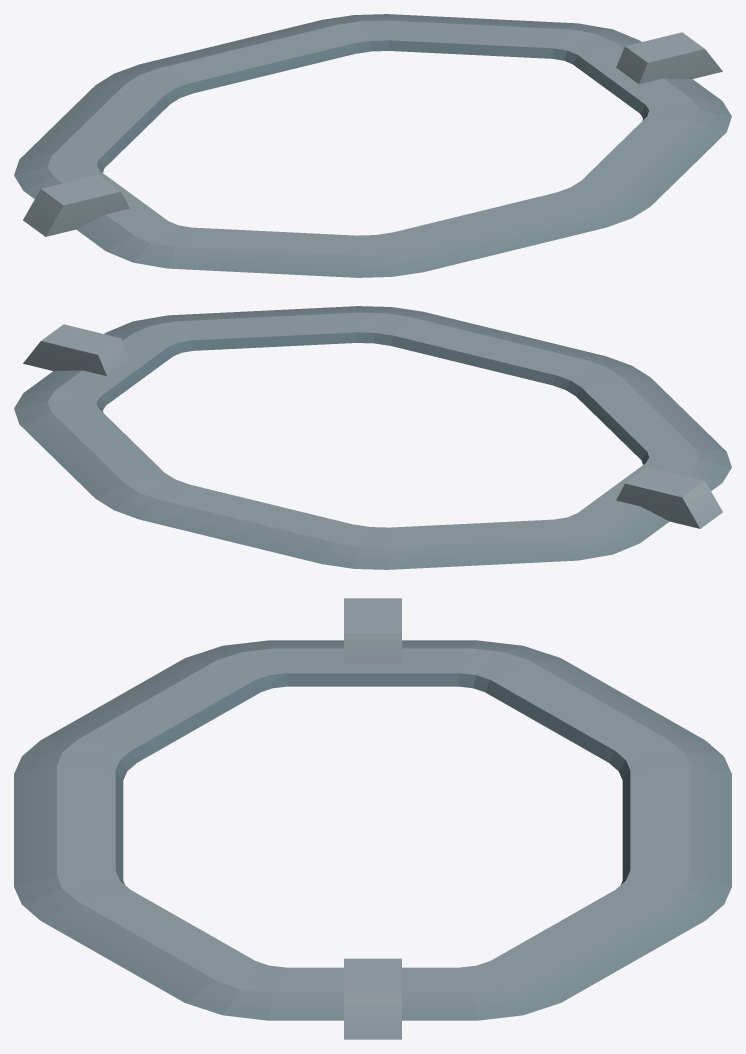
Rendered from Hatch_005.fbx.
3 views of the same model, one above another, from view 1: azimuth 30°, elevation 25°; view 2: azimuth 150°, elevation 25°; view 3: azimuth 270°, elevation 25° (orthographic). The views are drawn at different scales.
Parts seen in each view (by area): view 1: Hatch_005; view 2: Hatch_005; view 3: Hatch_005.
Part boxes in pixels (<box>): Hatch_005: <box>14,14,731,277</box>; Hatch_005: <box>14,306,731,569</box>; Hatch_005: <box>14,598,731,1039</box>.
Bounding box in the file's own units: 133 × 96.25 × 5.07.
